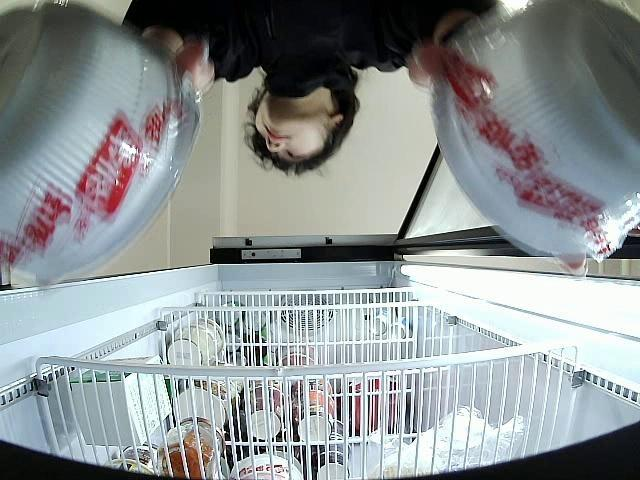09_yukGaeJang: (0, 3, 199, 284), (431, 0, 640, 257)
